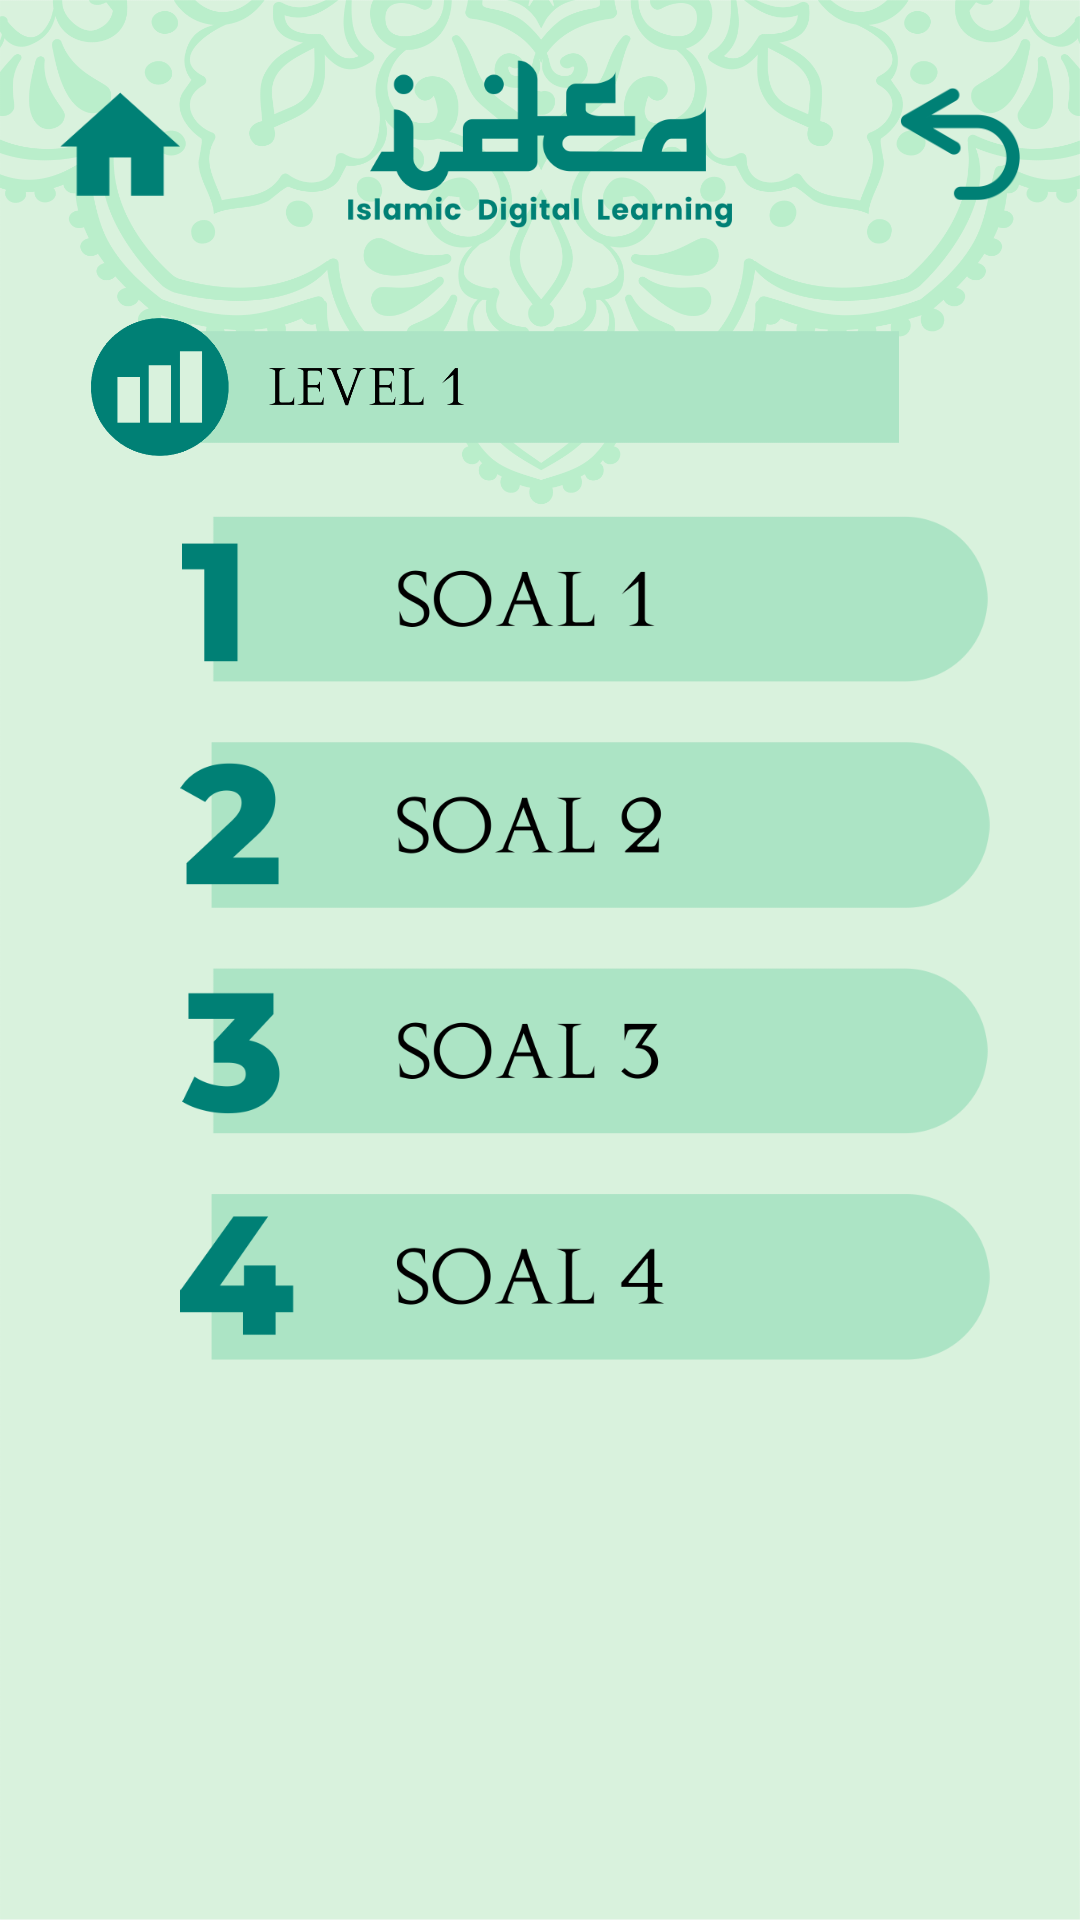

Screen size 1080 × 1920. Icon name, then its center in pixels as (x=x, y=y):
back: (x=960, y=144)
home: (x=120, y=144)
